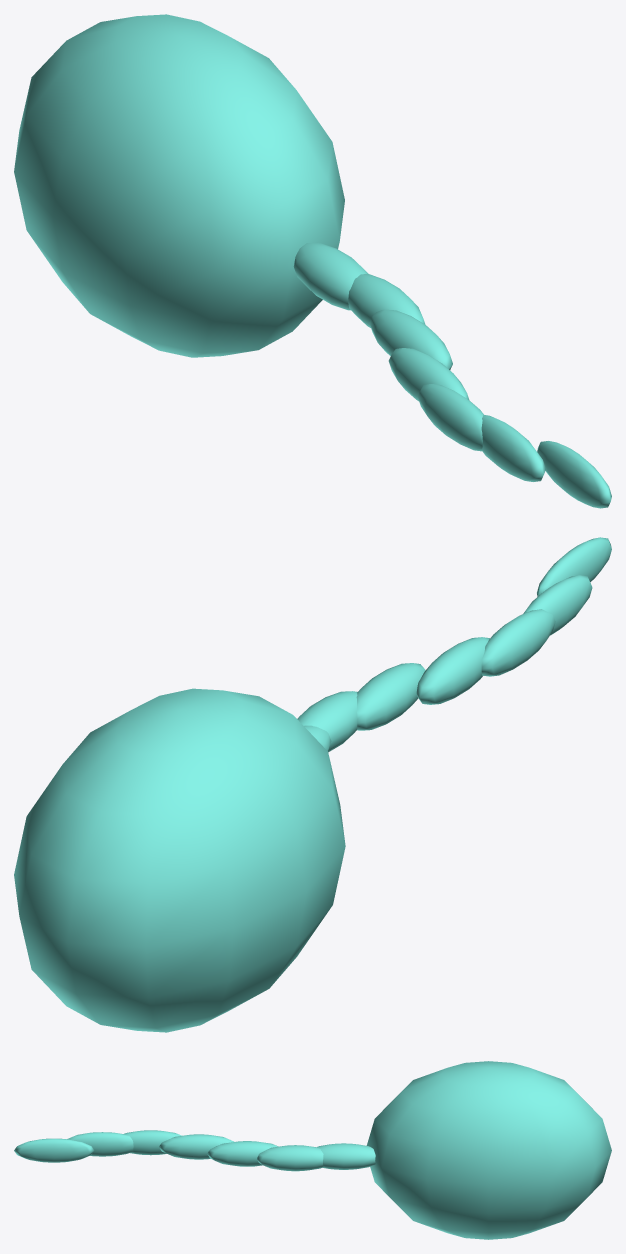
Rendered from player-aurora.glb.
3 renders of one model, top to bottom at view 1: azimuth 30°, elevation 25°; view 2: azimuth 150°, elevation 25°; view 3: azimuth 270°, elevation 25°, orthographic. The views are drawn at different scales.
Visible parts, largest first — view 1: head, tail-1, tail-7, tail-5, tail-6, tail-3, tail-4, tail-2; view 2: head, tail-3, tail-5, tail-4, tail-2, tail-7, tail-6; view 3: head, tail-7, tail-2, tail-1, tail-4, tail-3, tail-6, tail-5.
Boxes of the visible parts, x1=… form: head: x1=14, y1=14, x2=344, y2=357; tail-1: x1=293, y1=243, x2=368, y2=310; tail-7: x1=537, y1=441, x2=611, y2=508; tail-5: x1=417, y1=384, x2=483, y2=451; tail-6: x1=481, y1=414, x2=545, y2=481; tail-3: x1=369, y1=309, x2=452, y2=369; tail-4: x1=388, y1=348, x2=469, y2=401; tail-2: x1=348, y1=274, x2=425, y2=327; head: x1=14, y1=688, x2=345, y2=1032; tail-3: x1=356, y1=663, x2=425, y2=730; tail-5: x1=481, y1=609, x2=555, y2=676; tail-4: x1=416, y1=637, x2=489, y2=704; tail-2: x1=297, y1=691, x2=357, y2=752; tail-7: x1=537, y1=537, x2=611, y2=596; tail-6: x1=523, y1=575, x2=592, y2=635; head: x1=366, y1=1061, x2=611, y2=1239; tail-7: x1=14, y1=1138, x2=94, y2=1162; tail-2: x1=257, y1=1145, x2=323, y2=1171; tail-1: x1=317, y1=1143, x2=375, y2=1169; tail-4: x1=159, y1=1134, x2=234, y2=1159; tail-3: x1=207, y1=1141, x2=278, y2=1166; tail-6: x1=67, y1=1132, x2=133, y2=1156; tail-5: x1=123, y1=1130, x2=181, y2=1155.
Bounding box in the file's own units: 0.3 × 0.34 × 1.11.
